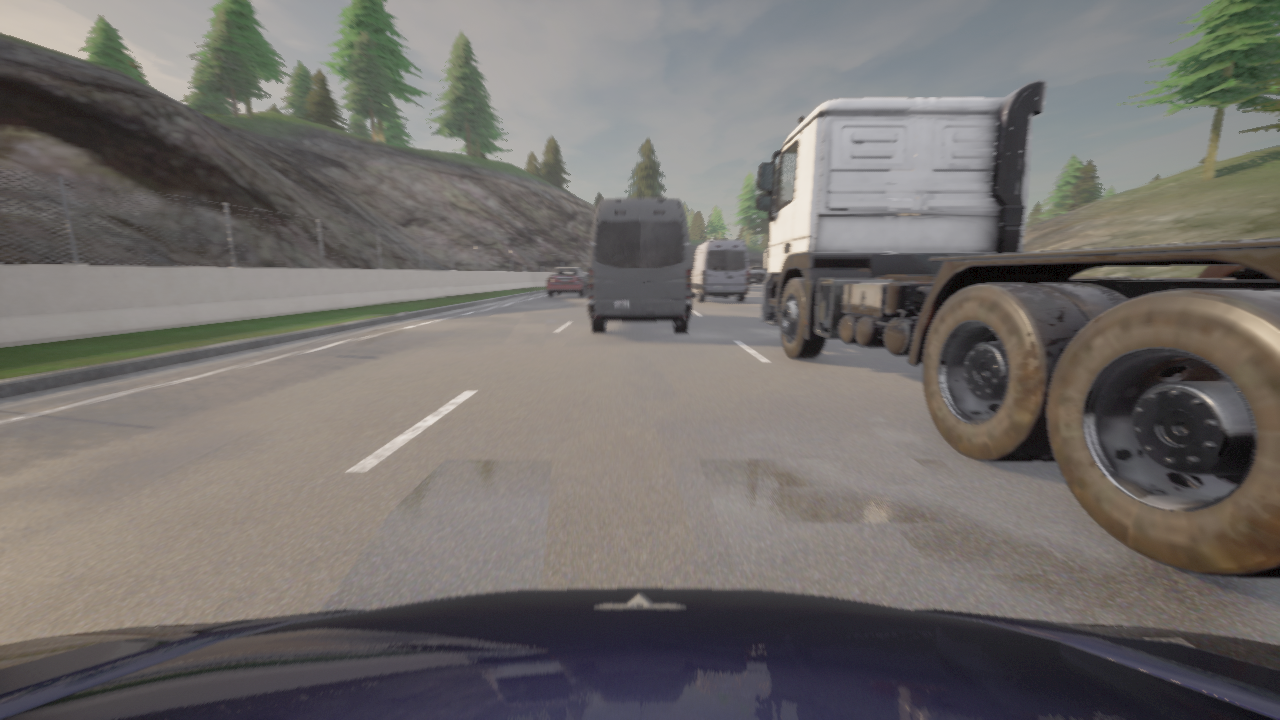cyclist: (756, 80, 1279, 577), (0, 588, 1279, 719), (587, 198, 692, 332), (692, 240, 748, 301), (547, 267, 587, 296), (749, 270, 768, 282)
